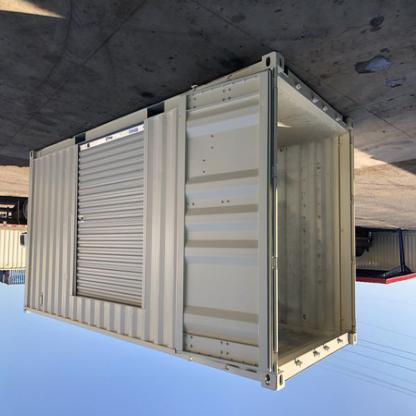Damage: (278, 160, 298, 230), (36, 174, 46, 209), (298, 310, 312, 332), (58, 271, 70, 293)
